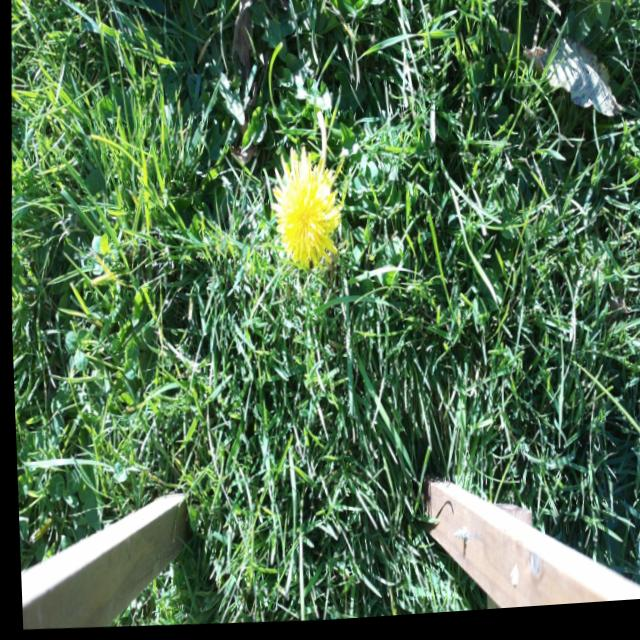base: (305, 101, 326, 139)
